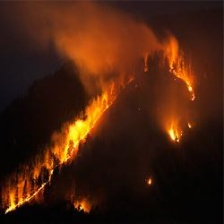fire: (5, 48, 189, 219)
